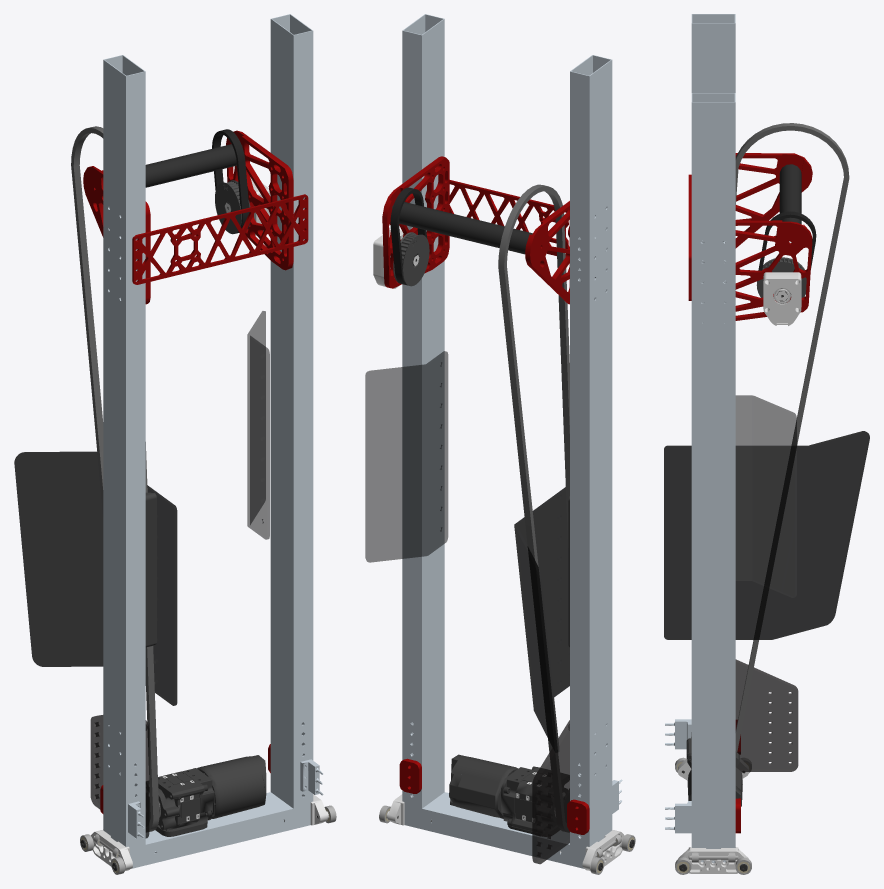
The picture shows the model from 3 angles, left to right: view 1: azimuth 30°, elevation 25°; view 2: azimuth 150°, elevation 25°; view 3: azimuth 270°, elevation 25°; orthographic projection. The views are drawn at different scales.
Visible parts, largest first — view 1: Tube 2"x1"x38.5", Right Funnel, Hardstop, MP Spacer, 276 links #25 chain, Left Funnel, 1/2" Rounded Hex (13.75mm OD)-1.688", Carriage Cable Chain Mount, Aluminum Tube Plug (2"x1"x.125"), 60 Tooth x 9mm HTD5 Belt, 36T HTD Pulley 10mm Wide, Kraken Spline MAXPlanetary Input Coupler; view 2: Tube 2"x1"x38.5", Left Funnel, Right Funnel, Hardstop, 276 links #25 chain, MP Spacer, Carriage Cable Chain Mount, 1/2" Rounded Hex (13.75mm OD)-1.688", 36T HTD Pulley 10mm Wide, Aluminum Tube Plug (2"x1"x.125"), 60 Tooth x 9mm HTD5 Belt, Kraken Spline MAXPlanetary Input Coupler (+1 smaller); view 3: Tube 2"x1"x38.5", Right Funnel, Left Funnel, Hardstop, Carriage Cable Chain Mount, 276 links #25 chain, id36, Aluminum Tube Plug (2"x1"x.125"), 1/2" Rounded Hex (13.75mm OD)-1.688", Kraken Spline MAXPlanetary Input Coupler, 36T HTD Pulley 10mm Wide, 60 Tooth x 9mm HTD5 Belt (+1 smaller).
Part boxes in pixels (box(x1,y1,x2,y2)): Tube 2"x1"x38.5": box(103, 14, 323, 868); Right Funnel: box(14, 451, 177, 705); Hardstop: box(83, 130, 308, 813); MP Spacer: box(145, 492, 266, 836); 276 links #25 chain: box(71, 126, 159, 831); Left Funnel: box(247, 311, 269, 539); 1/2" Rounded Hex (13.75mm OD)-1.688": box(145, 144, 242, 821); Carriage Cable Chain Mount: box(90, 715, 149, 838); Aluminum Tube Plug (2"x1"x.125"): box(90, 794, 328, 870); 60 Tooth x 9mm HTD5 Belt: box(212, 129, 249, 233); 36T HTD Pulley 10mm Wide: box(215, 180, 250, 234); Kraken Spline MAXPlanetary Input Coupler: box(80, 801, 336, 874); Tube 2"x1"x38.5": box(402, 14, 622, 868); Left Funnel: box(365, 351, 448, 562); Right Funnel: box(514, 487, 569, 752); Hardstop: box(382, 156, 589, 834); 276 links #25 chain: box(498, 184, 569, 832); MP Spacer: box(449, 496, 569, 836); Carriage Cable Chain Mount: box(532, 720, 569, 864); 1/2" Rounded Hex (13.75mm OD)-1.688": box(392, 202, 546, 822); 36T HTD Pulley 10mm Wide: box(393, 232, 429, 286); Aluminum Tube Plug (2"x1"x.125"): box(386, 794, 624, 870); 60 Tooth x 9mm HTD5 Belt: box(390, 187, 427, 285); Kraken Spline MAXPlanetary Input Coupler: box(379, 792, 635, 874); Tube 2"x1"x38.5": box(665, 14, 735, 863); Right Funnel: box(664, 431, 869, 639); Left Funnel: box(735, 395, 796, 597); Hardstop: box(688, 153, 812, 833); Carriage Cable Chain Mount: box(735, 659, 798, 771); 276 links #25 chain: box(691, 123, 849, 752); id36: box(763, 272, 801, 325); Aluminum Tube Plug (2"x1"x.125"): box(677, 758, 749, 873); 1/2" Rounded Hex (13.75mm OD)-1.688": box(776, 164, 801, 301); Kraken Spline MAXPlanetary Input Coupler: box(675, 757, 751, 874); 36T HTD Pulley 10mm Wide: box(756, 257, 806, 303); 60 Tooth x 9mm HTD5 Belt: box(758, 211, 816, 270).
Size of the model in its own units: 0.2886 by 0.9779 by 0.2376.
